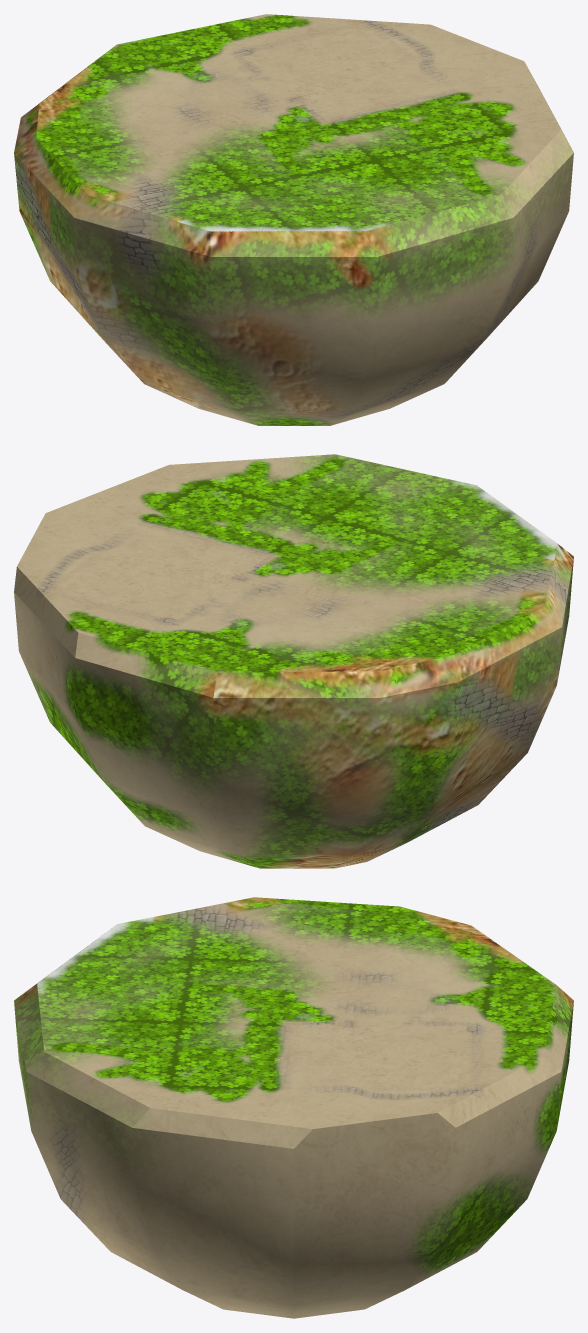
3 renders of one model, top to bottom at view 1: azimuth 30°, elevation 25°; view 2: azimuth 150°, elevation 25°; view 3: azimuth 270°, elevation 25°, orthographic. The views are drawn at different scales.
Visible parts, largest first — view 1: オブジェクト002; view 2: オブジェクト002; view 3: オブジェクト002.
Part boxes in pixels (<box>): オブジェクト002: <box>14,14,573,425</box>; オブジェクト002: <box>14,454,573,868</box>; オブジェクト002: <box>14,897,573,1318</box>.
Size of the model in its own units: 33.8 by 18.39 by 33.09.
